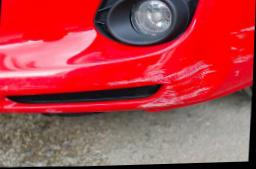Bumper: (0, 34, 255, 123)
